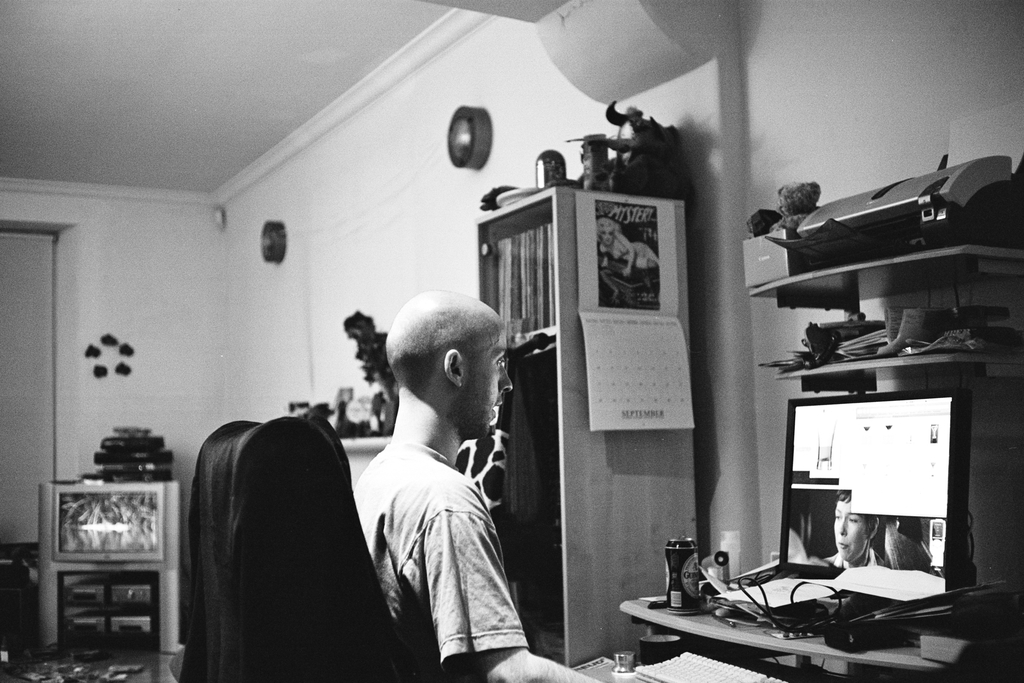Person: (815, 491, 894, 569)
